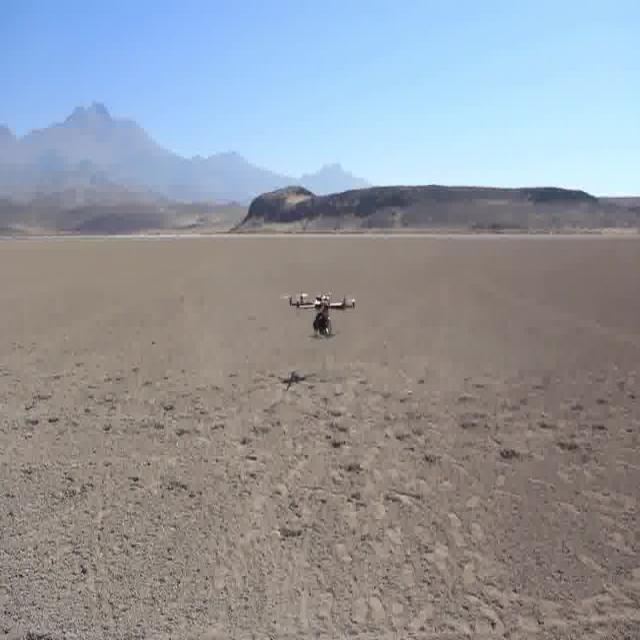drone: (279, 268, 362, 360)
